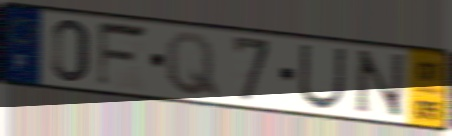0: (50, 17, 91, 85)
7: (230, 34, 273, 105)
F: (94, 19, 152, 91)
N: (350, 48, 408, 121)
Q: (163, 30, 221, 99)
U: (296, 42, 349, 112)
